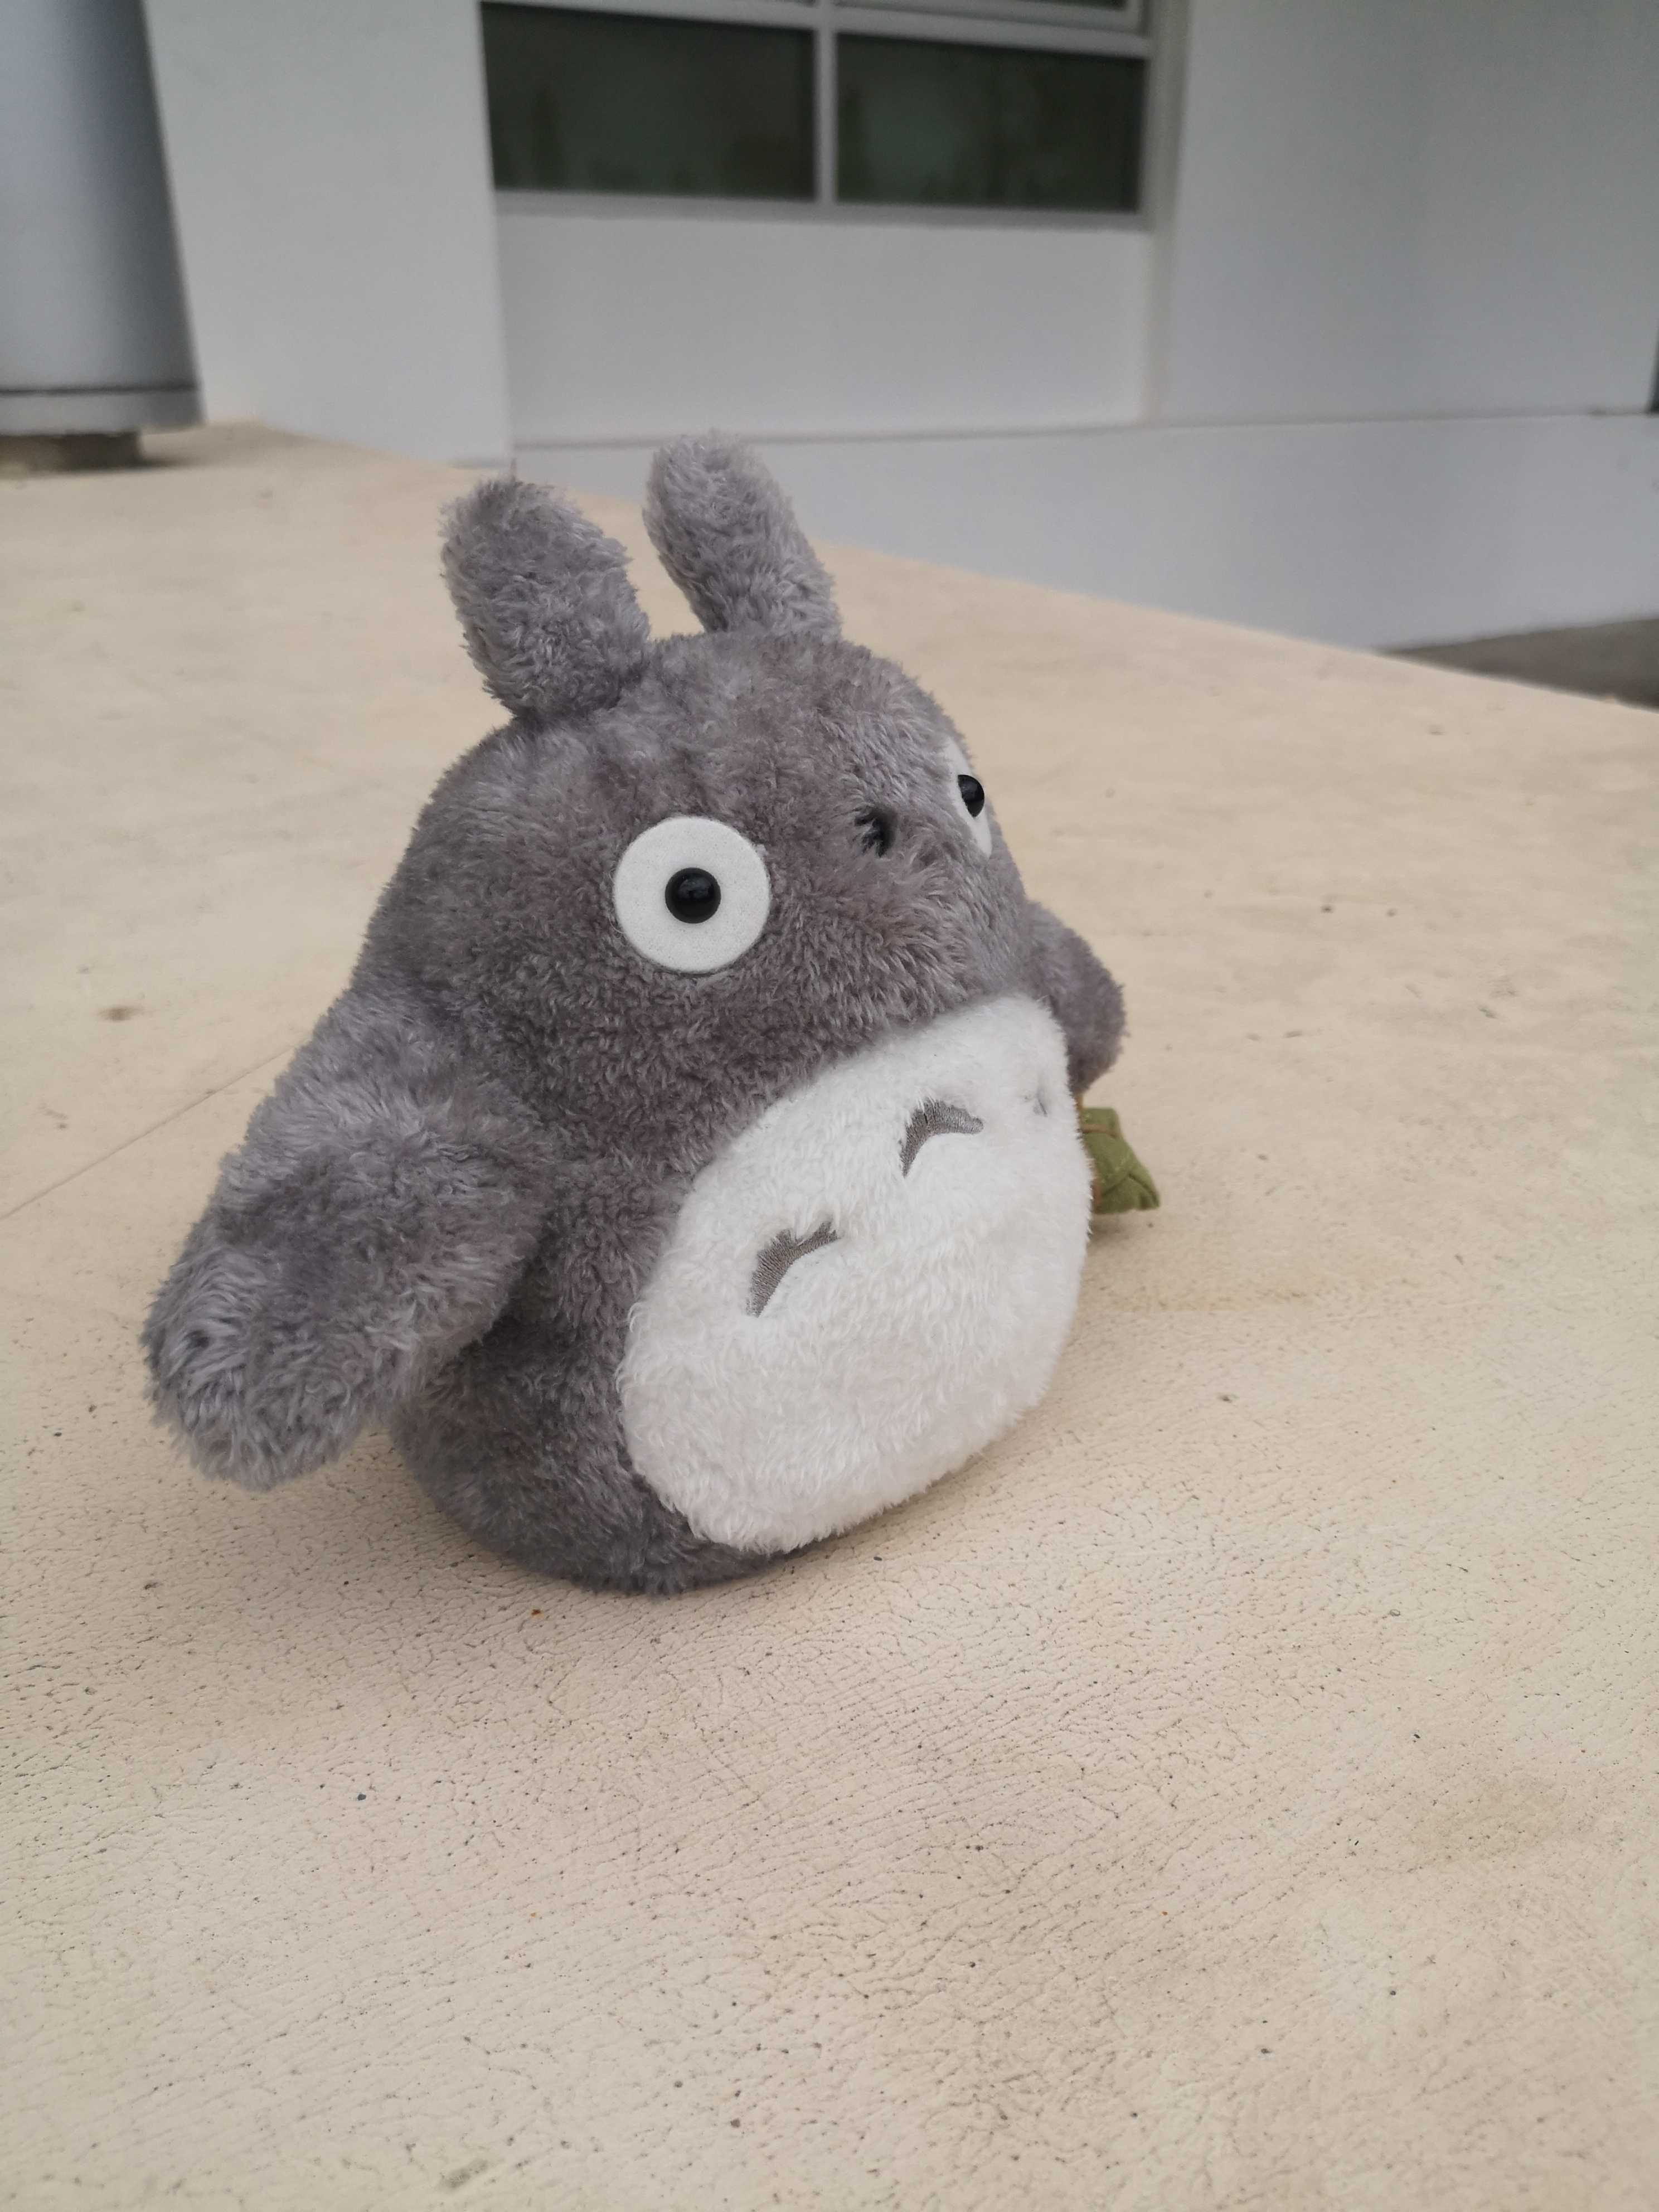totoro: (131, 418, 1166, 1608)
